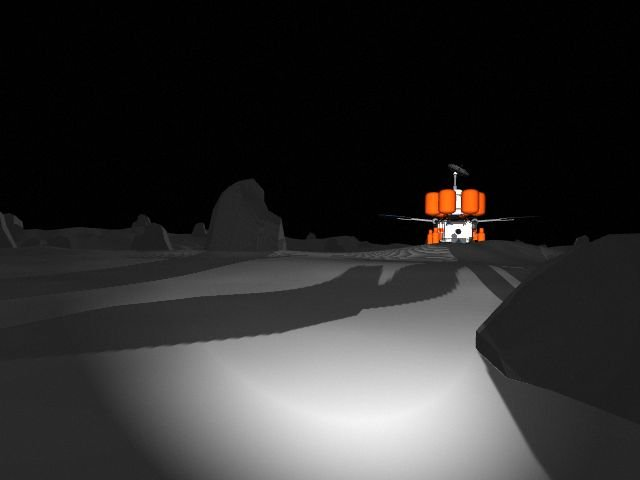homebase: (379, 161, 524, 256)
